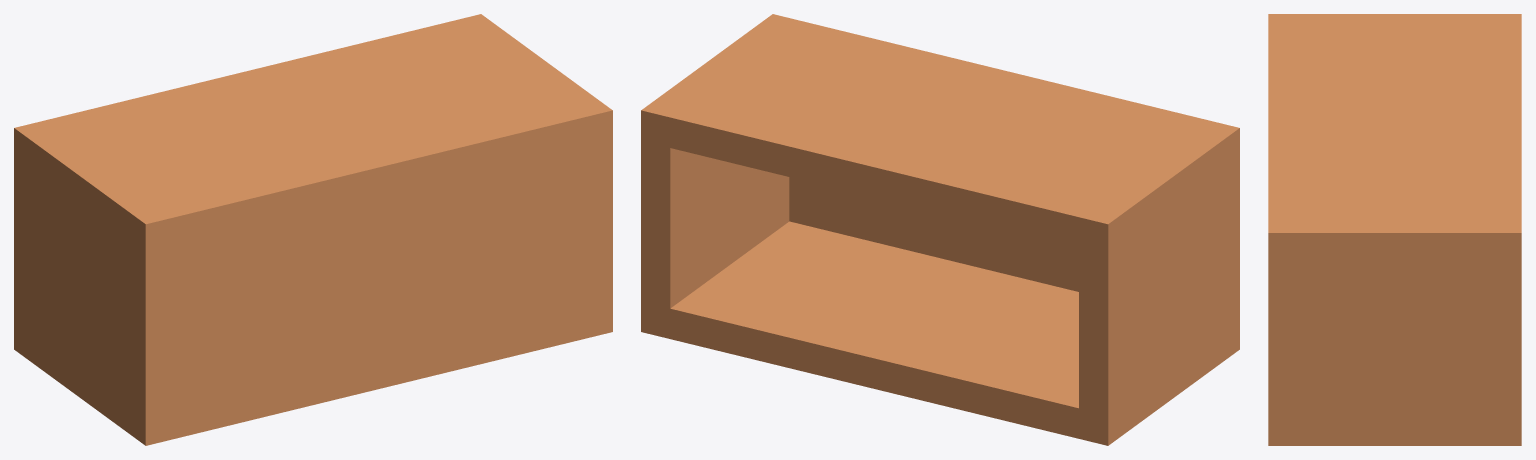
Rendered from KitchenCabinetUpperLow.glb.
The picture shows the model from 3 angles, left to right: view 1: azimuth 30°, elevation 25°; view 2: azimuth 150°, elevation 25°; view 3: azimuth 270°, elevation 25°; orthographic projection. The views are drawn at different scales.
Parts seen in each view (by area): view 1: KitchenCabinetUpperLow; view 2: KitchenCabinetUpperLow; view 3: KitchenCabinetUpperLow.
Part boxes in pixels (bbox=[...]): KitchenCabinetUpperLow: bbox=[14, 14, 612, 445]; KitchenCabinetUpperLow: bbox=[641, 14, 1239, 445]; KitchenCabinetUpperLow: bbox=[1268, 14, 1521, 445].
Bounding box in the file's own units: 0.9869 × 0.4475 × 0.482.
